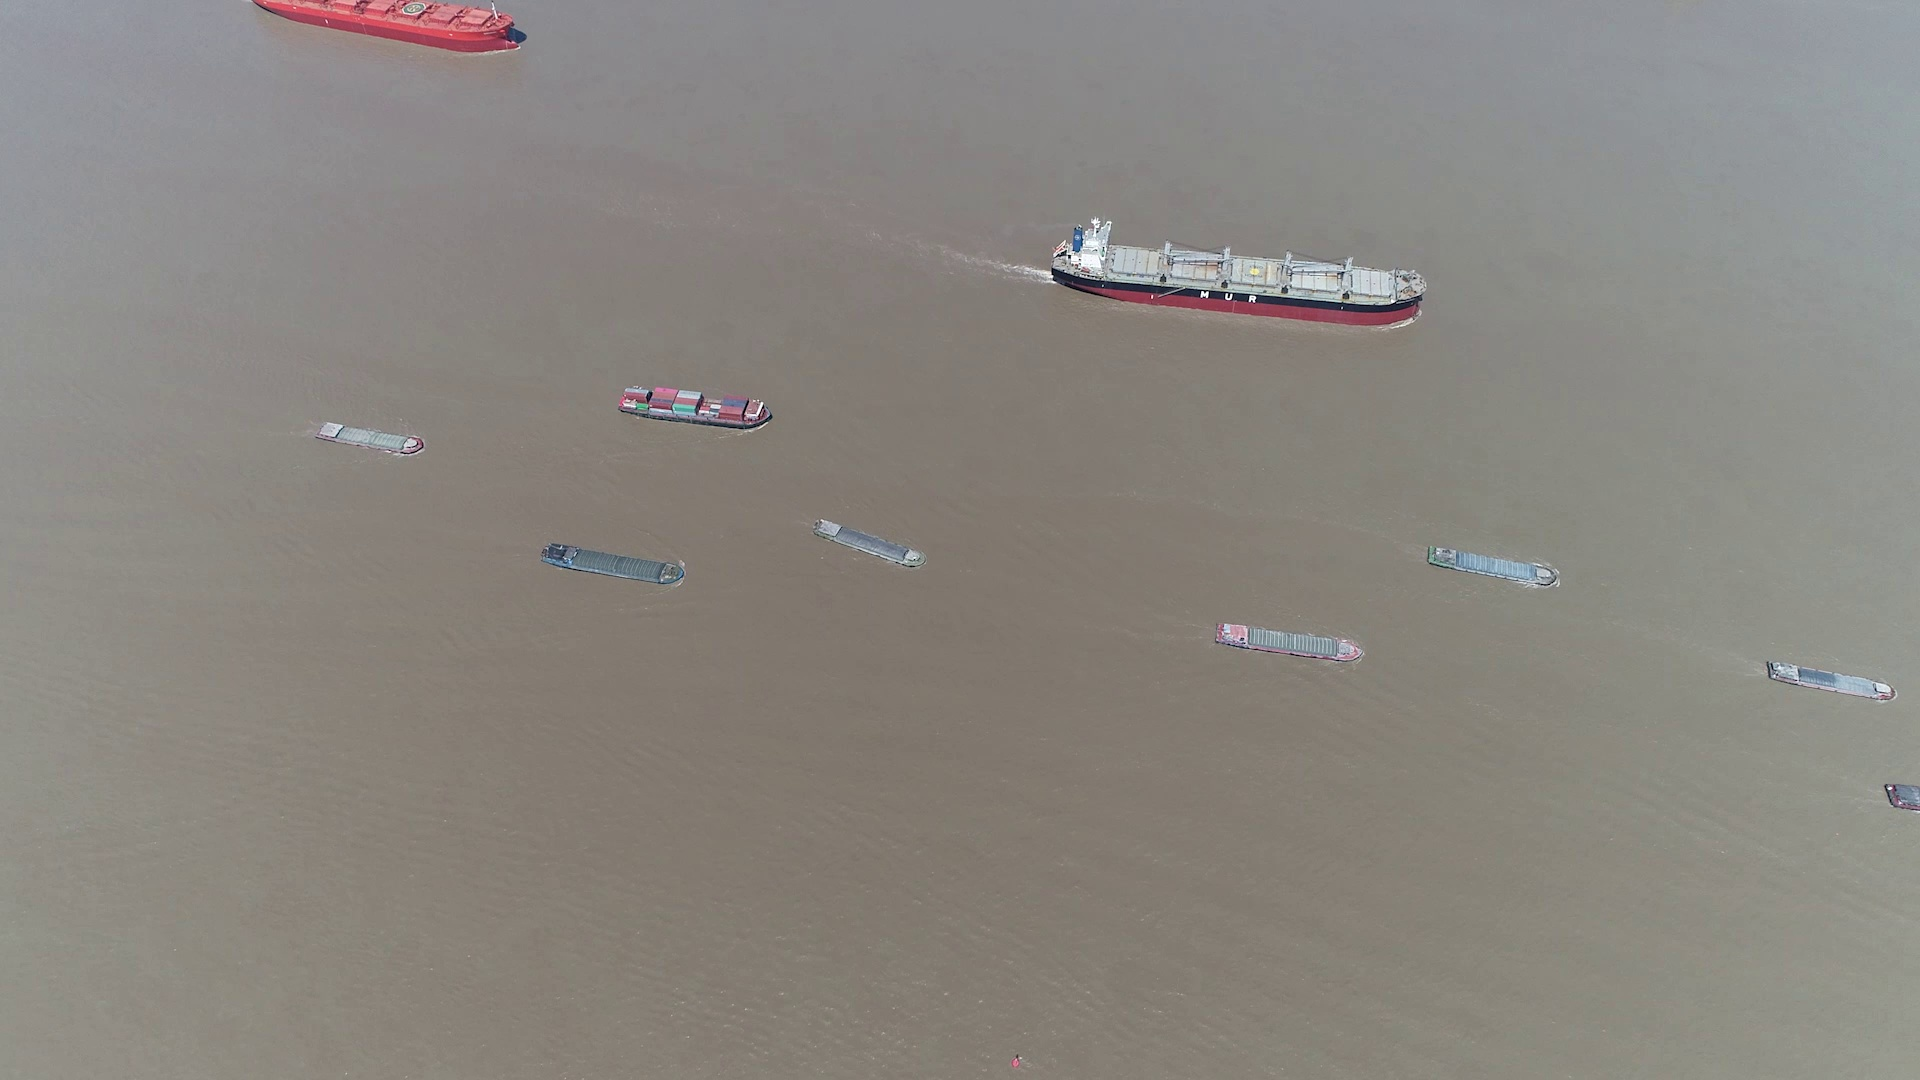ship: (1052, 222, 1425, 323), (252, 0, 525, 55), (538, 541, 688, 585), (620, 386, 774, 430), (1216, 621, 1364, 663), (1429, 545, 1563, 588), (1762, 661, 1898, 702), (814, 522, 924, 570), (316, 419, 425, 456), (1886, 785, 1920, 816)
